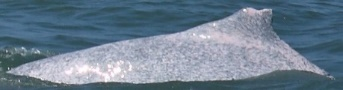fin: (7, 2, 338, 86)
